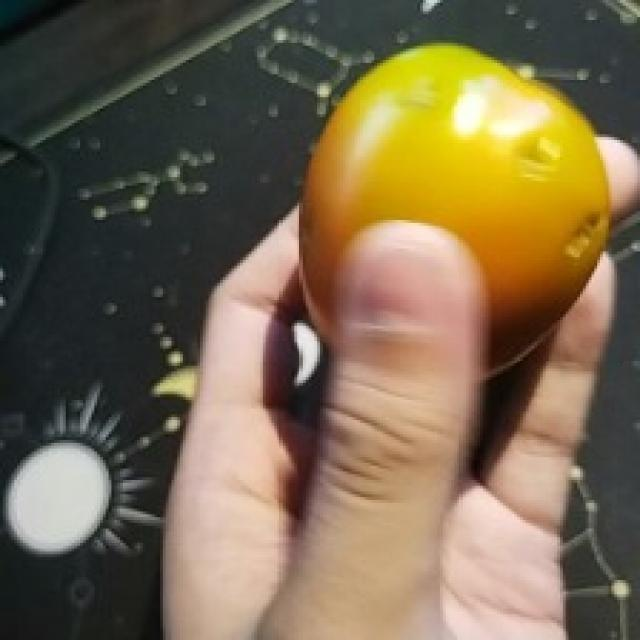Rotten Tomato: (299, 31, 611, 391)
